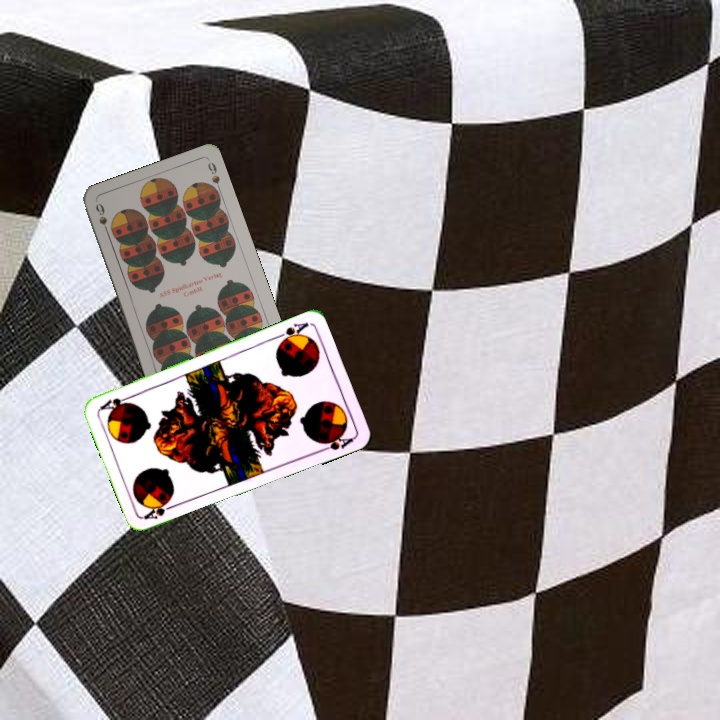S9: (91, 199, 112, 238)
SA: (272, 318, 311, 347), (140, 500, 179, 522)
